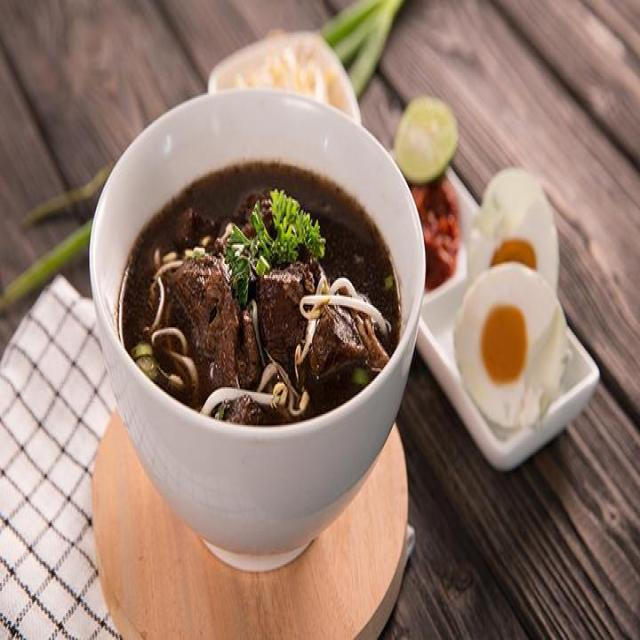Rawon: (123, 158, 394, 424)
